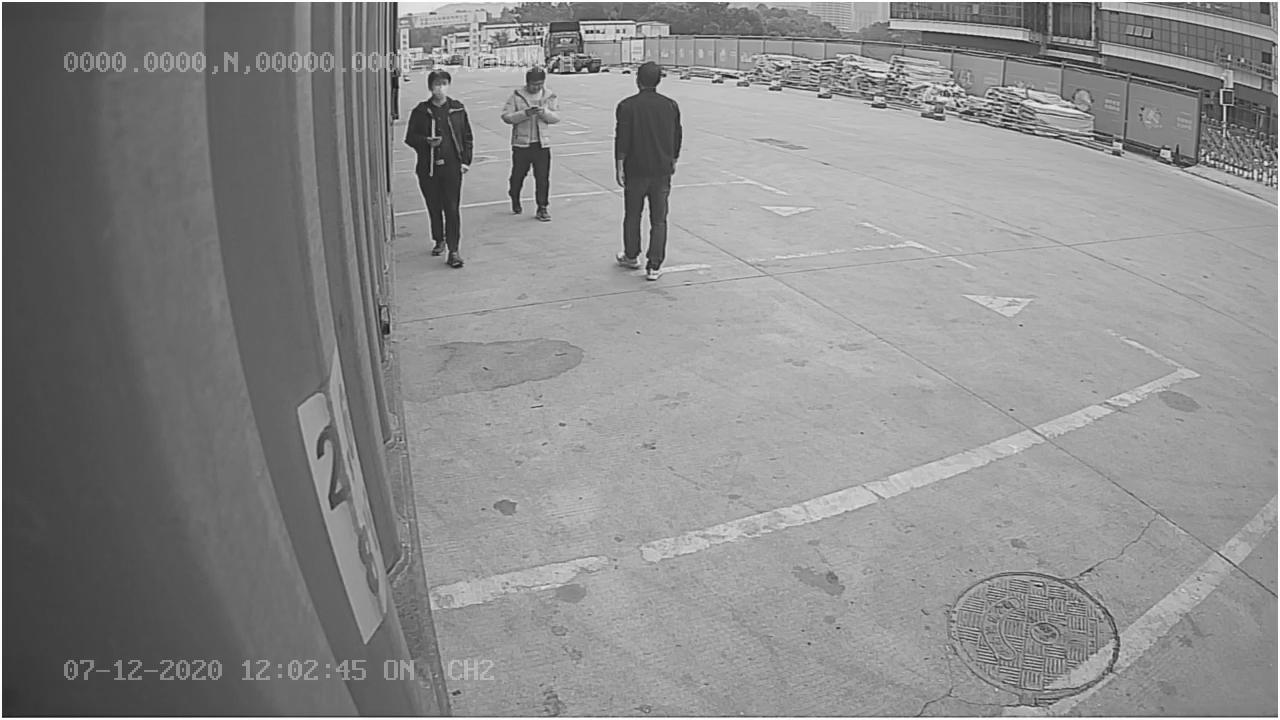person: (609, 62, 676, 285)
